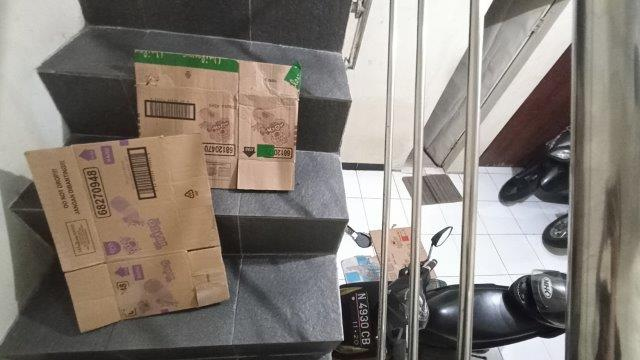kardus: (25, 136, 229, 331), (135, 51, 298, 189), (342, 229, 435, 279)
